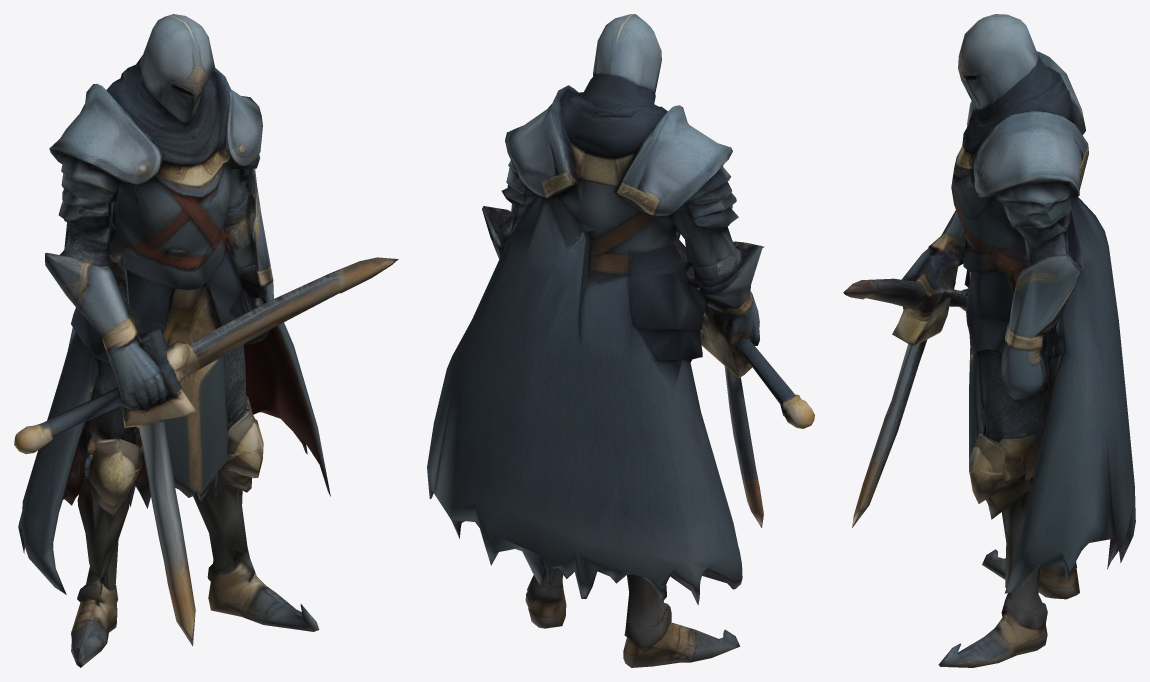
The model's file is knight_ash.glb.
3 renders of one model, left to right at view 1: azimuth 30°, elevation 25°; view 2: azimuth 150°, elevation 25°; view 3: azimuth 270°, elevation 25°, orthographic. The views are drawn at different scales.
Bounding box in the file's own units: 1.15 × 2 × 0.8859.
Materials: 1 (1 with a texture image).
